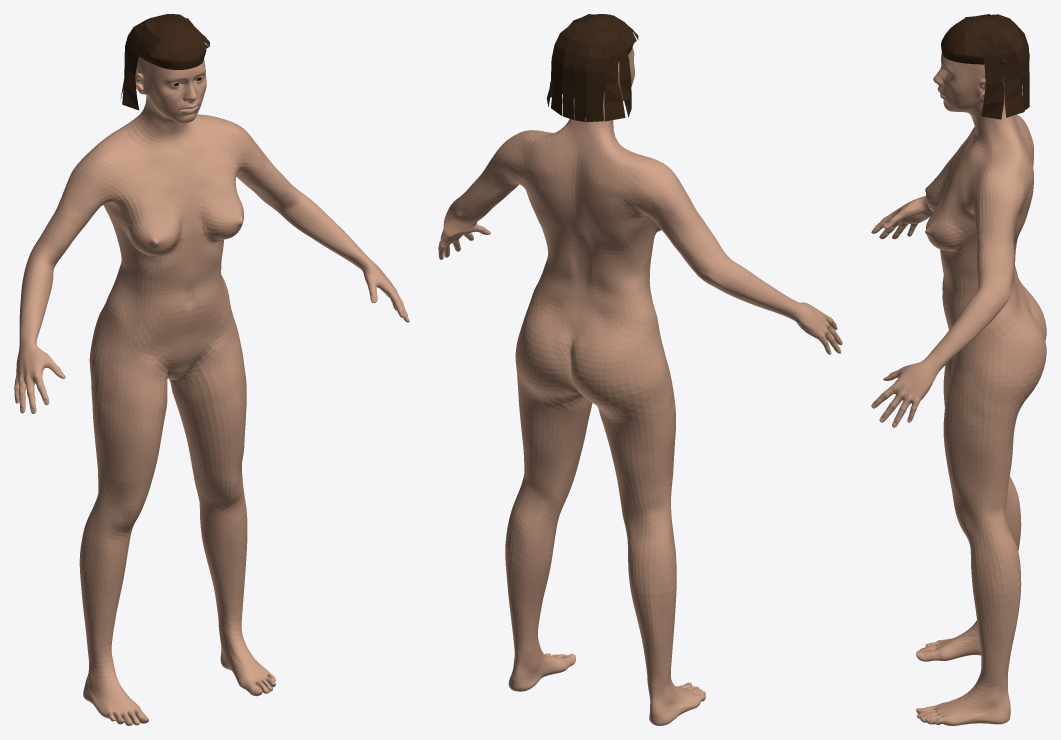
The model's file is woman.obj.
3 views of the same model, side by side, from view 1: azimuth 30°, elevation 25°; view 2: azimuth 150°, elevation 25°; view 3: azimuth 270°, elevation 25° (orthographic). The views are drawn at different scales.
Parts seen in each view (by area): view 1: body, hair; view 2: body, hair; view 3: body, hair.
Boxes of the visible parts, x1=… form: body: x1=14, y1=56, x2=409, y2=725; hair: x1=120, y1=14, x2=209, y2=110; body: x1=438, y1=47, x2=842, y2=725; hair: x1=546, y1=14, x2=638, y2=122; body: x1=871, y1=52, x2=1046, y2=725; hair: x1=941, y1=14, x2=1029, y2=119.
Size of the model in its own units: 9.8 by 16.13 by 3.83.
3 materials, 1 textured.
